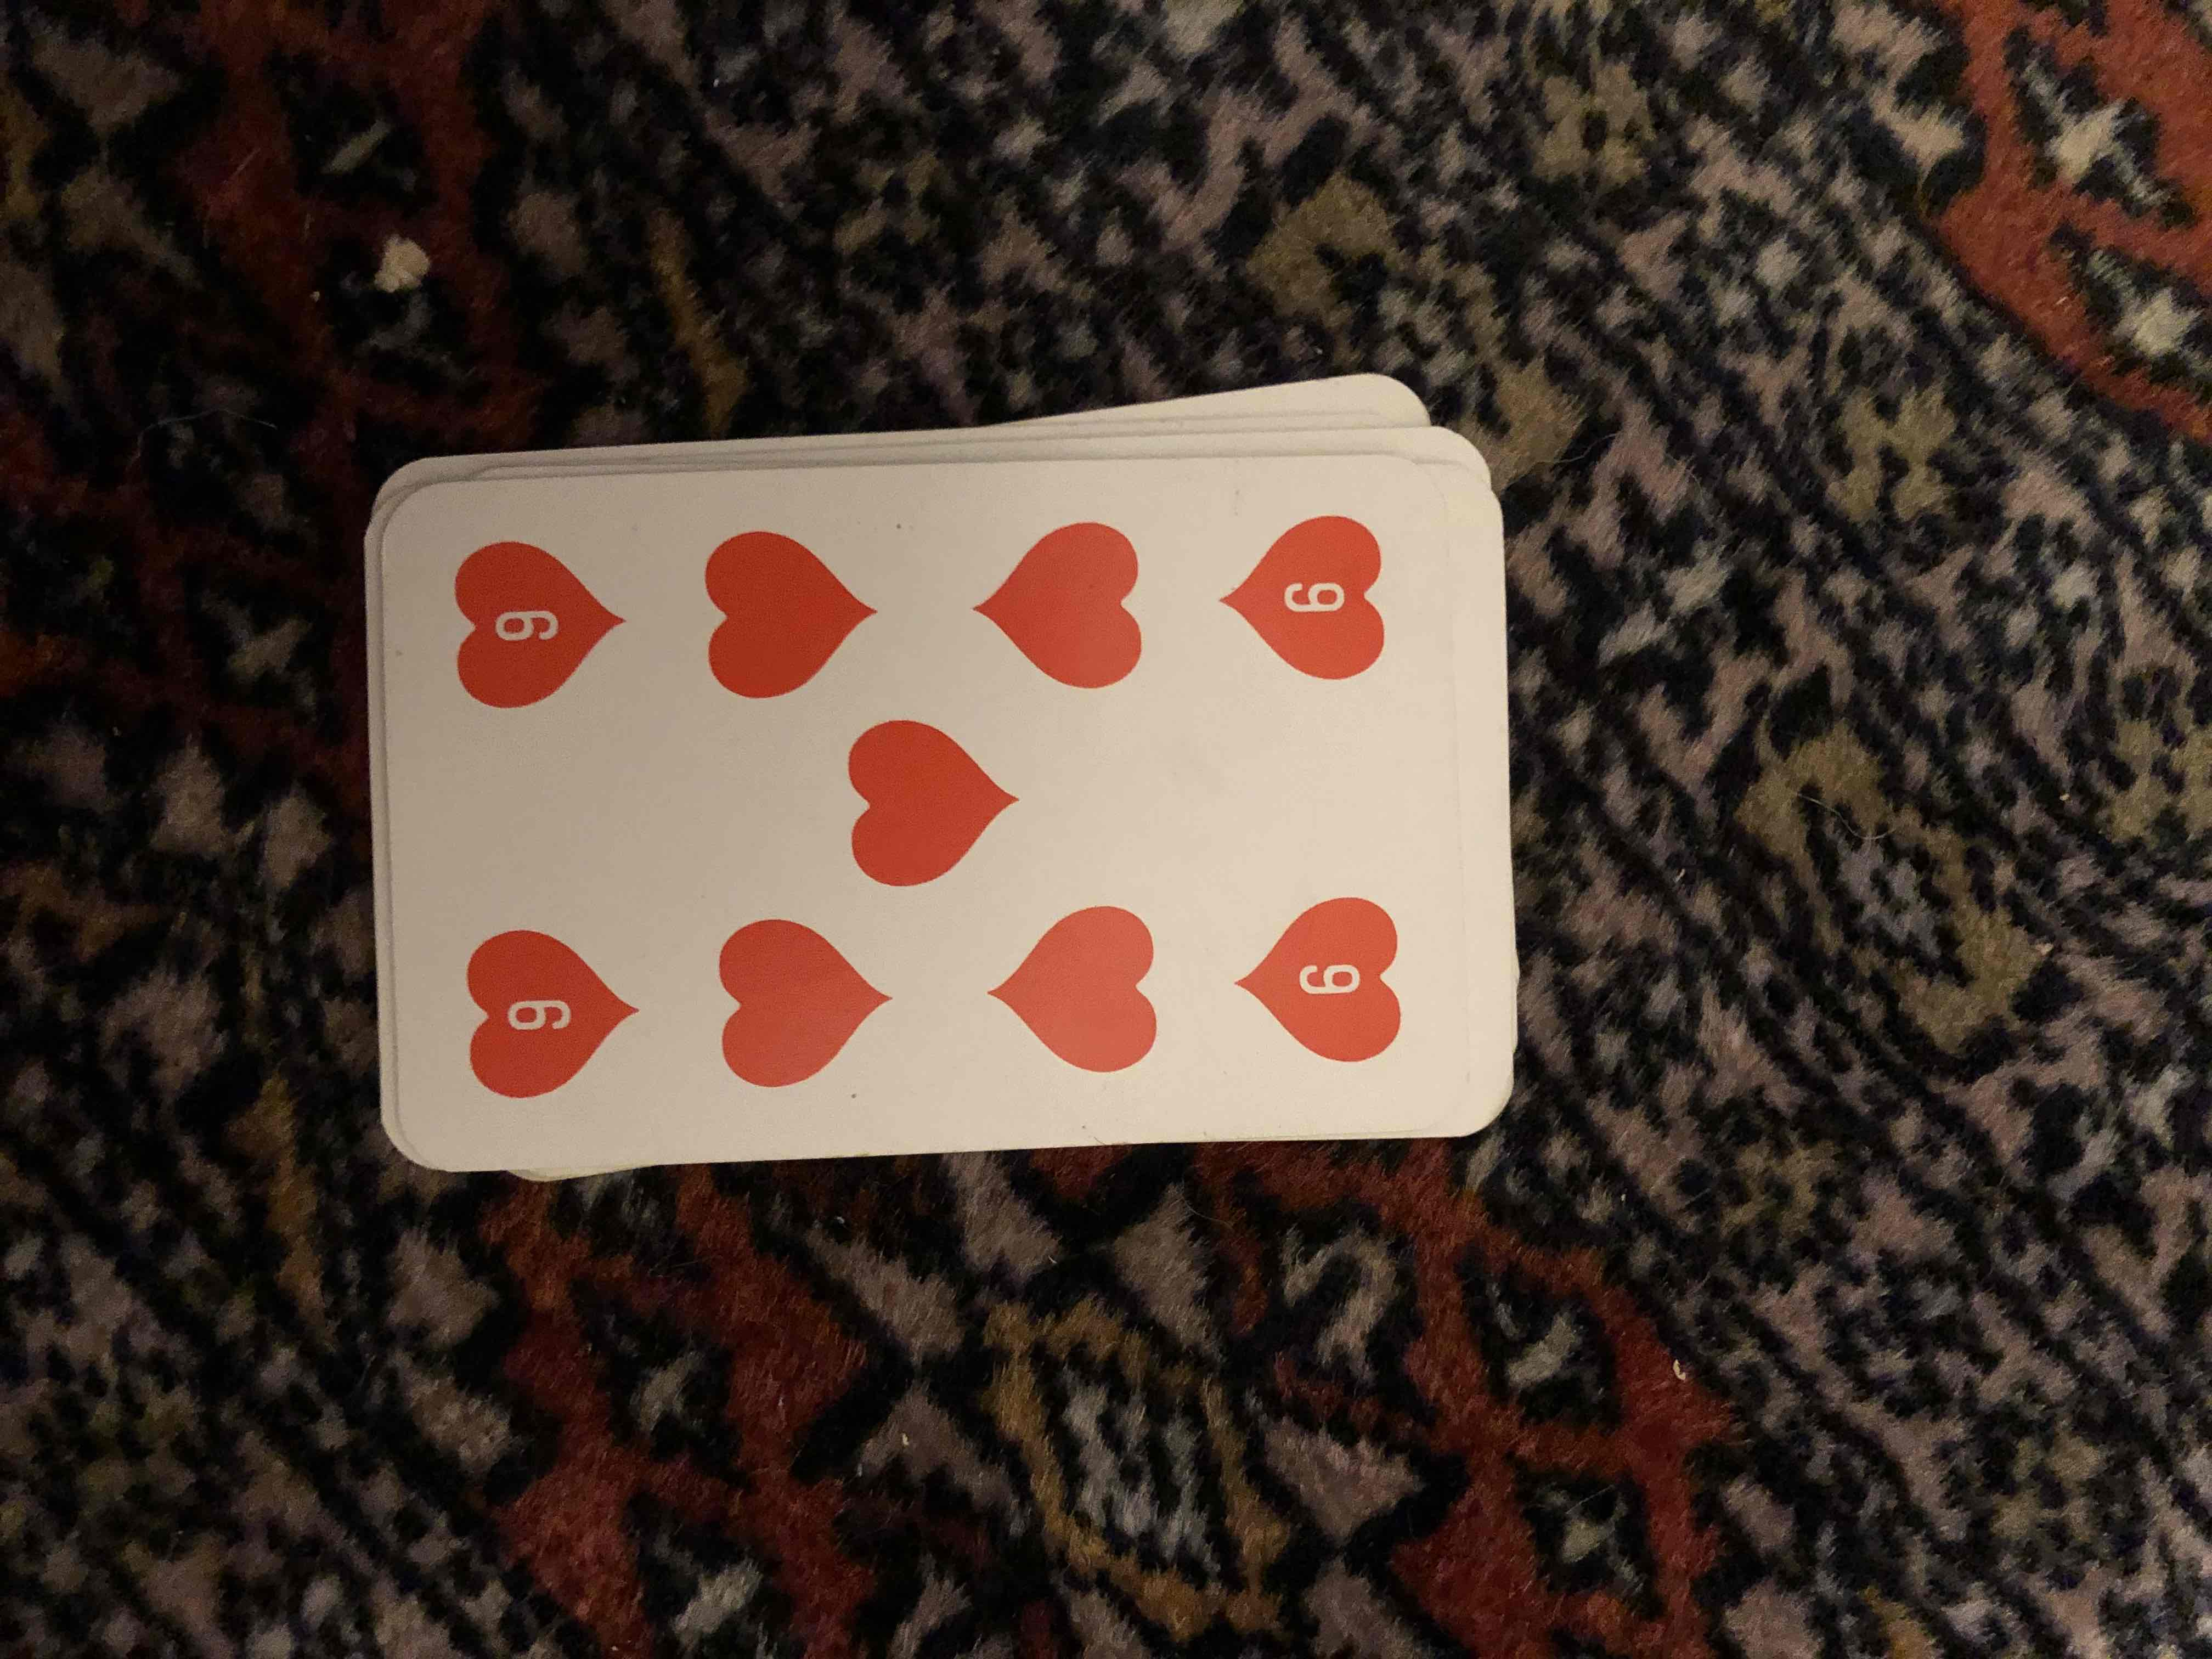hearts9: (371, 448, 1501, 1134)
